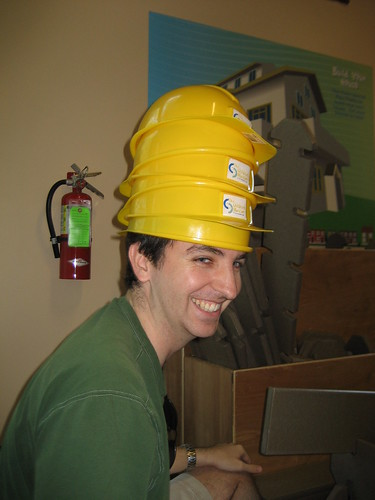person hardhat: (77, 85, 297, 500)
